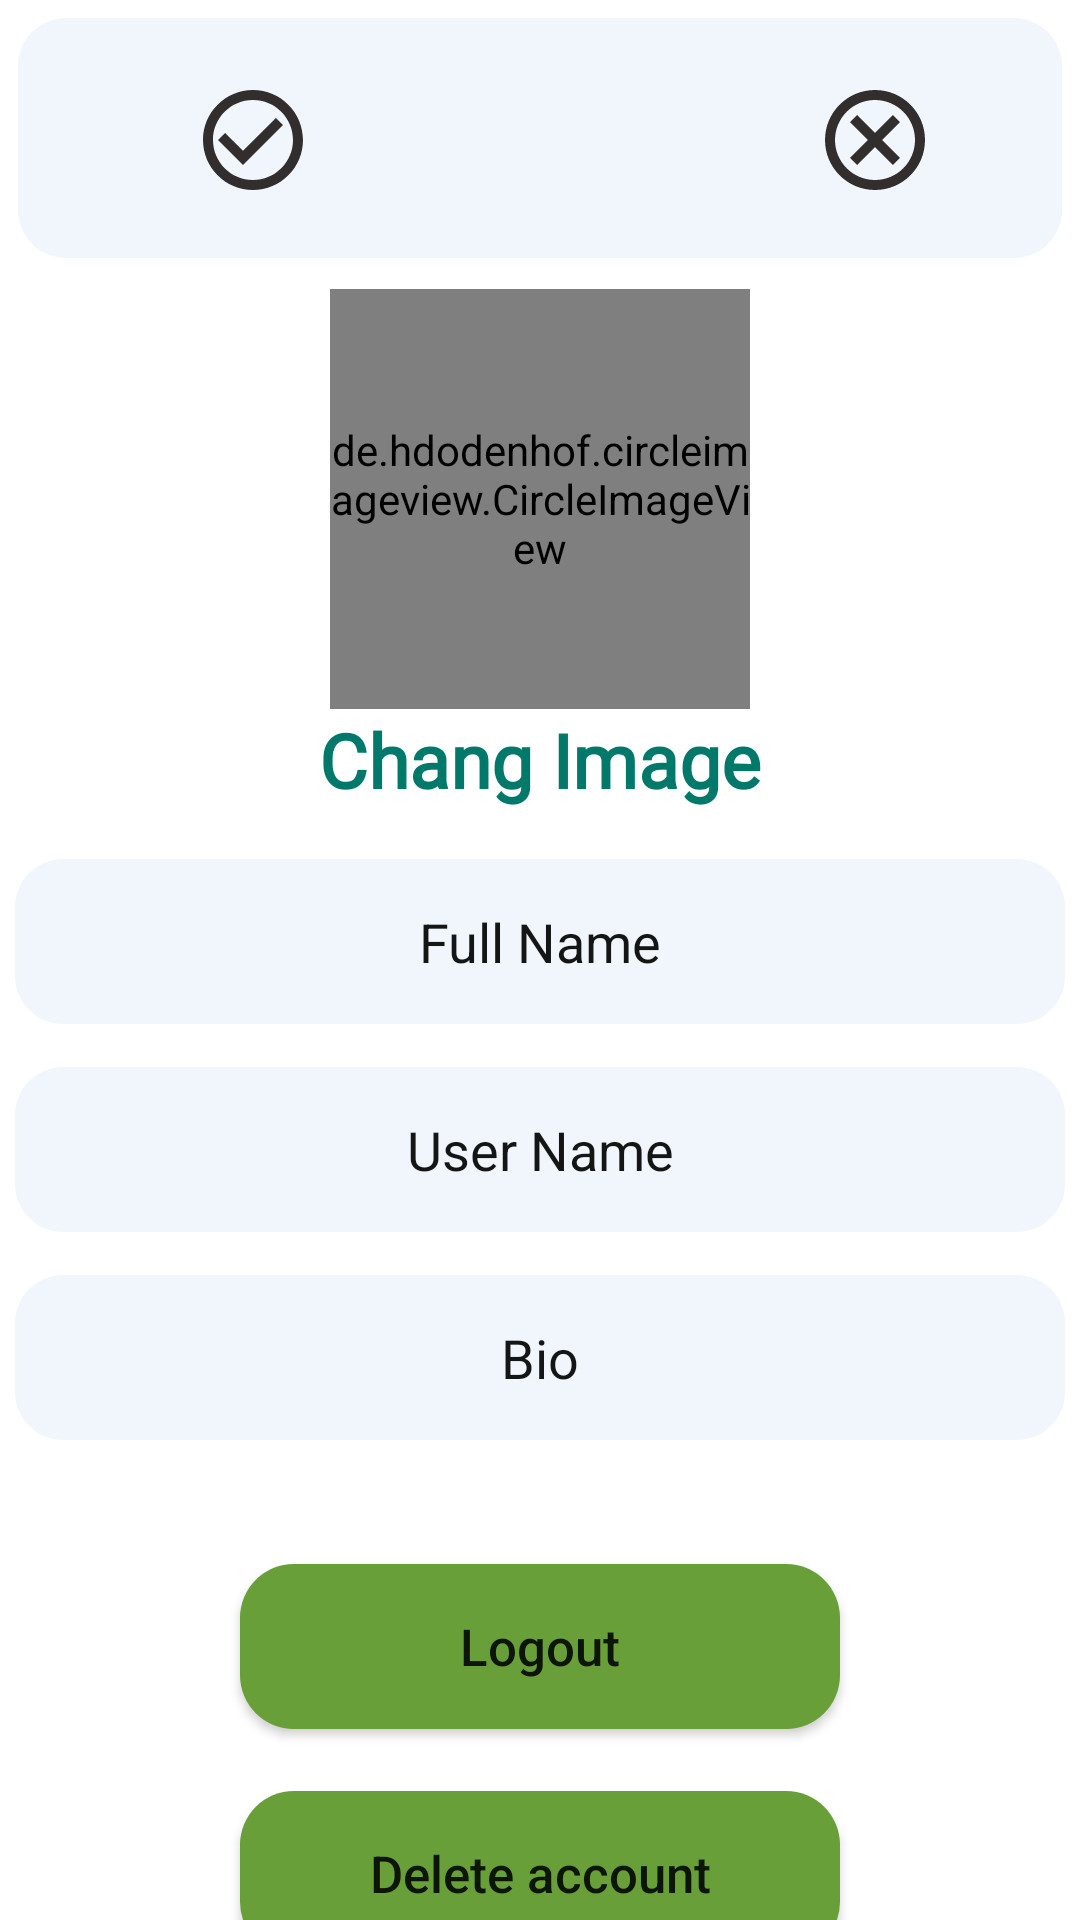

Icons on this 1080px×1920px Android screen, each with its box as (x1, y1, x2, y2):
cancel: (825, 90, 925, 190)
